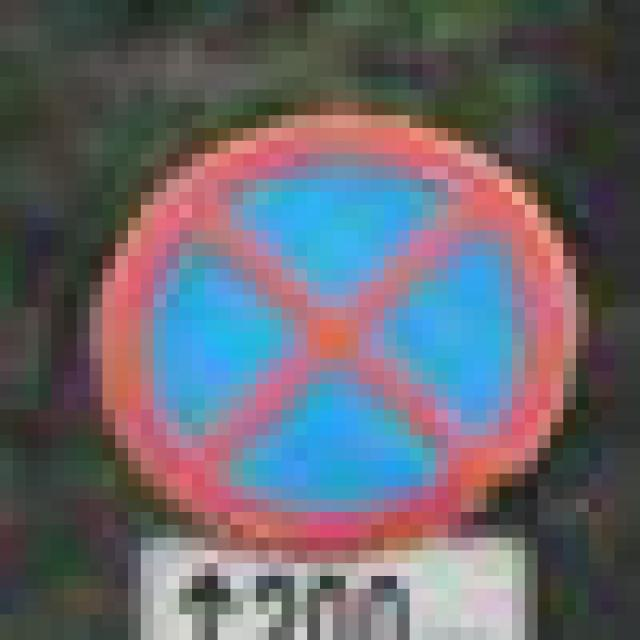no_parking: (77, 102, 576, 550)
